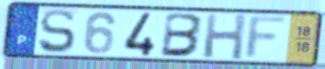4: (122, 11, 158, 58)
6: (82, 10, 117, 55)
B: (158, 11, 206, 58)
F: (242, 15, 291, 61)
H: (202, 13, 248, 62)
S: (37, 7, 77, 56)
